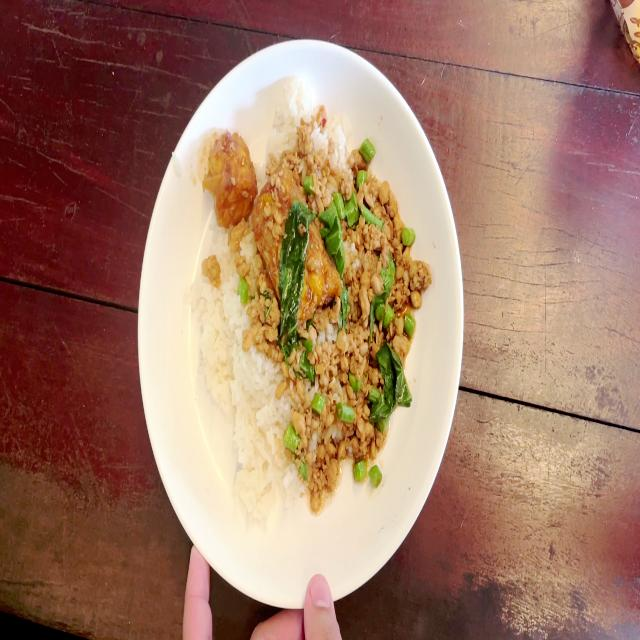fried_tofo: (257, 168, 336, 312), (196, 132, 258, 222)
minced_pork: (335, 135, 424, 482), (276, 322, 336, 485)
rice: (202, 240, 278, 491)
stir_fried_basil: (192, 79, 422, 518)
